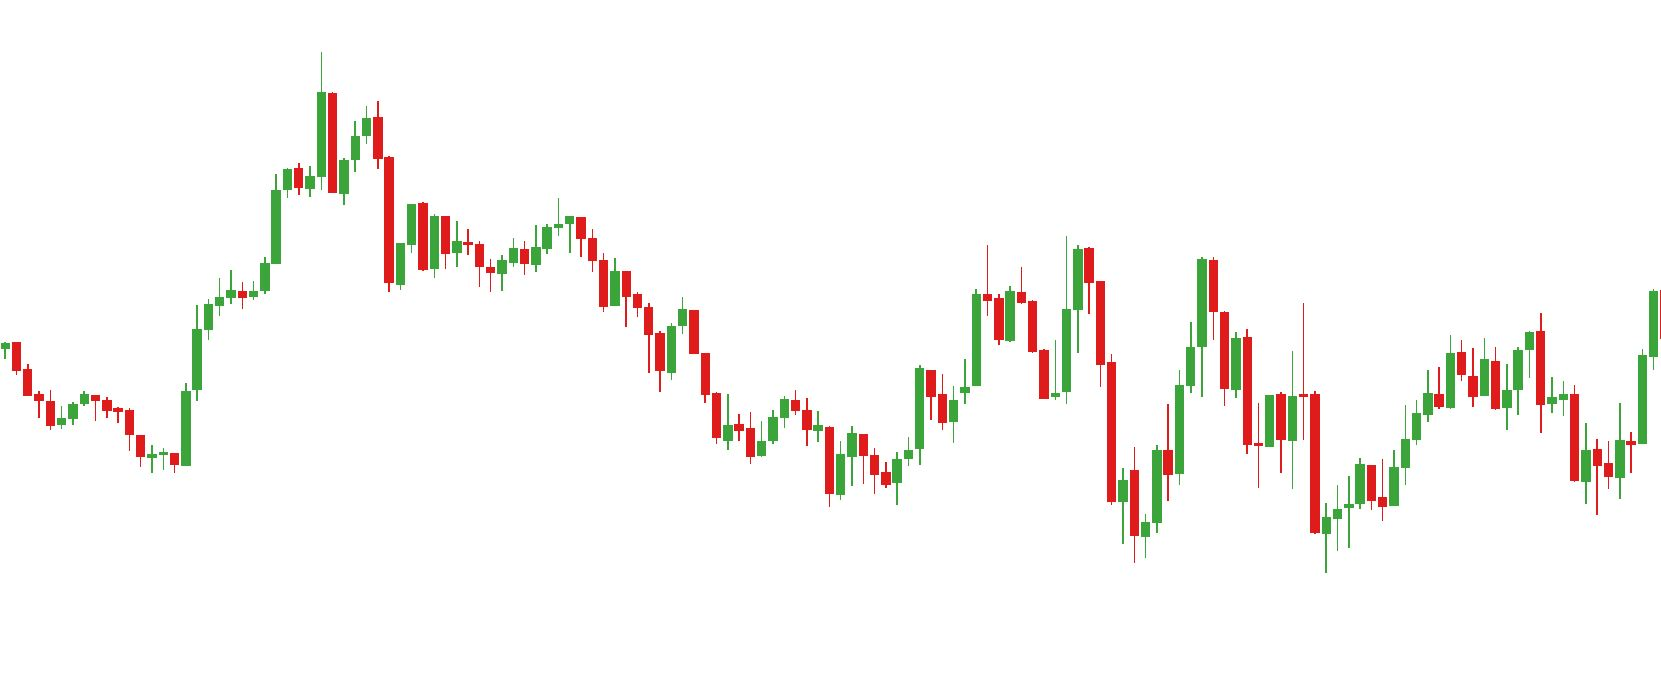buy: (1127, 382, 1332, 577), (743, 416, 846, 510)
sell: (980, 238, 1096, 342)
